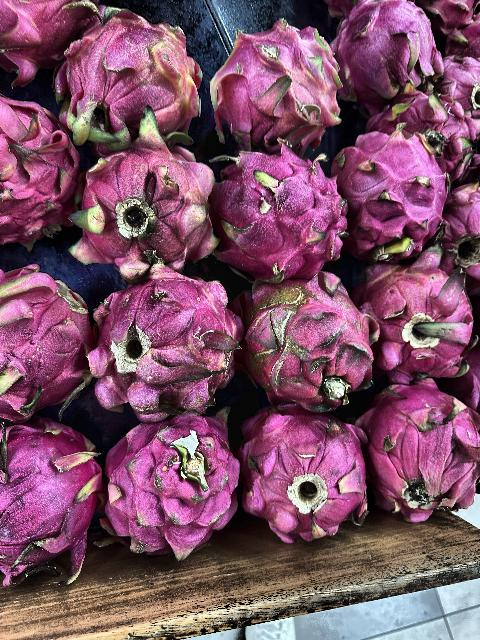buah-naga-belum-matang: (58, 7, 206, 139)
buah-naga-matang: (79, 264, 241, 416), (210, 139, 360, 281), (99, 412, 245, 552), (68, 134, 216, 266), (352, 377, 480, 525), (200, 22, 346, 150), (245, 266, 373, 410), (324, 116, 449, 260), (242, 401, 366, 543), (0, 416, 98, 590), (360, 255, 480, 377), (0, 260, 84, 420), (0, 92, 80, 252), (362, 88, 480, 182), (329, 0, 439, 92)
